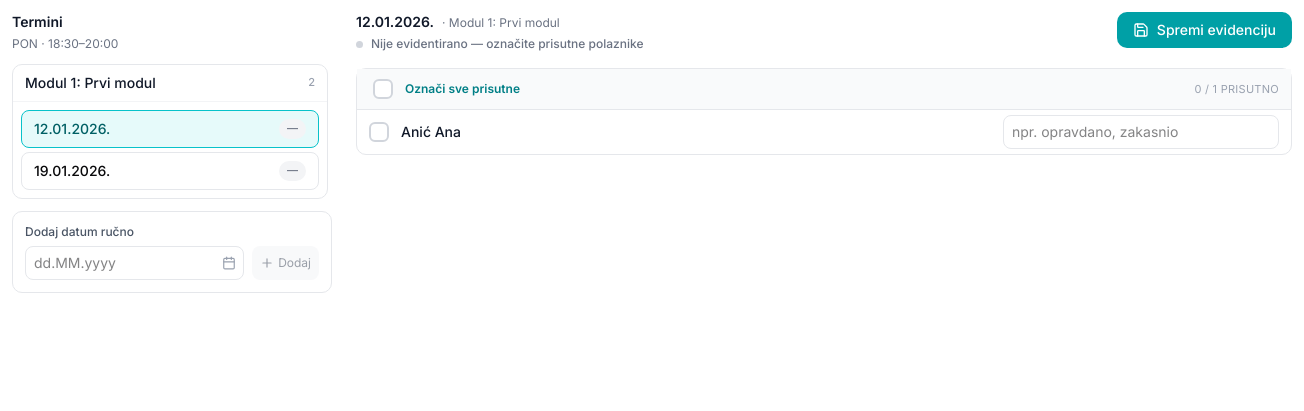
Test: AttendanceMarker — removing a mistyped hand-added date › standard branch: removes a date bucketed into Ostali termini
In the field labelled "Dodaj datum ručno": (135,263) [25, 246, 244, 280], type "26.01.2026"
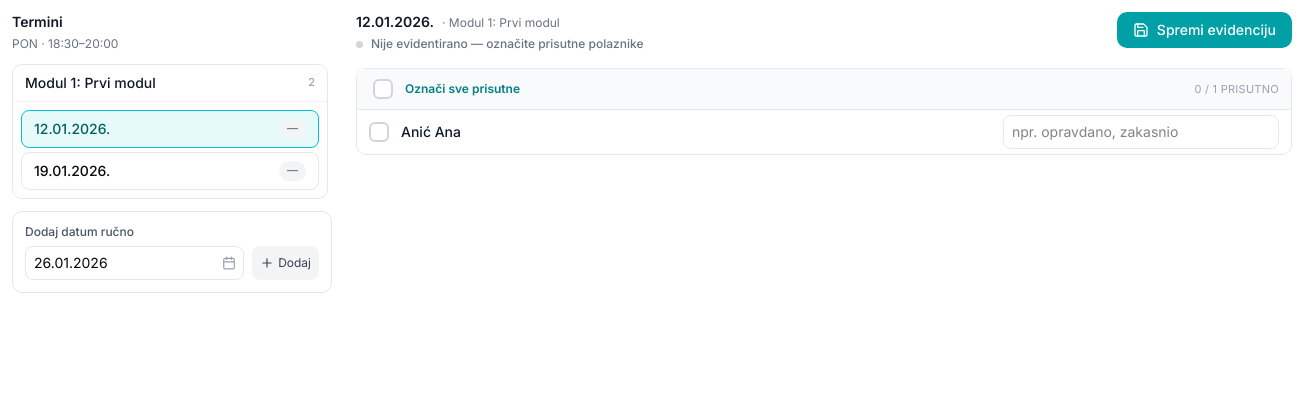
Click the button "Dodaj": (286,263) [252, 246, 319, 280]
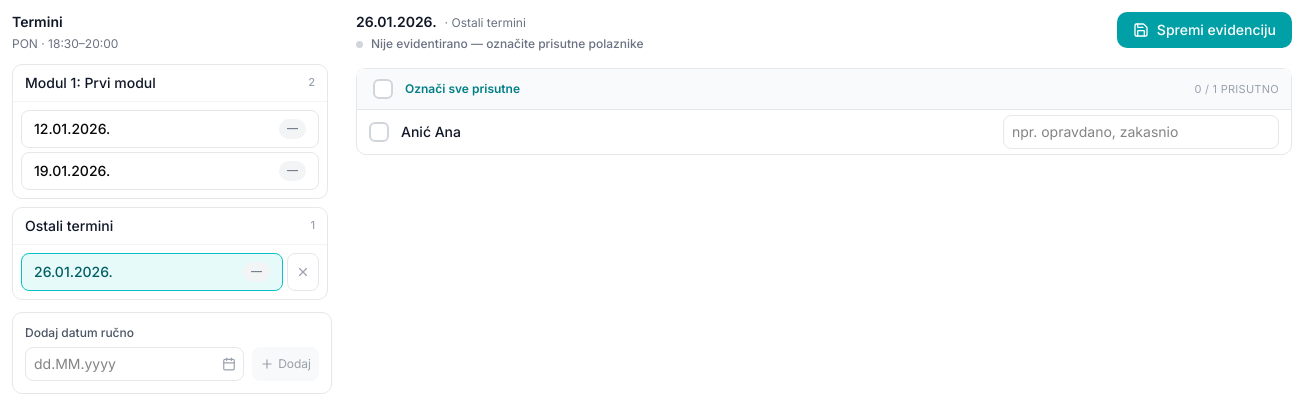
Now the text "26.01.2026." is shown, box [34, 263, 113, 280]
Click the button named "Ukloni ručno dodani datum 26.01.2026.": (303,272) [287, 253, 319, 291]
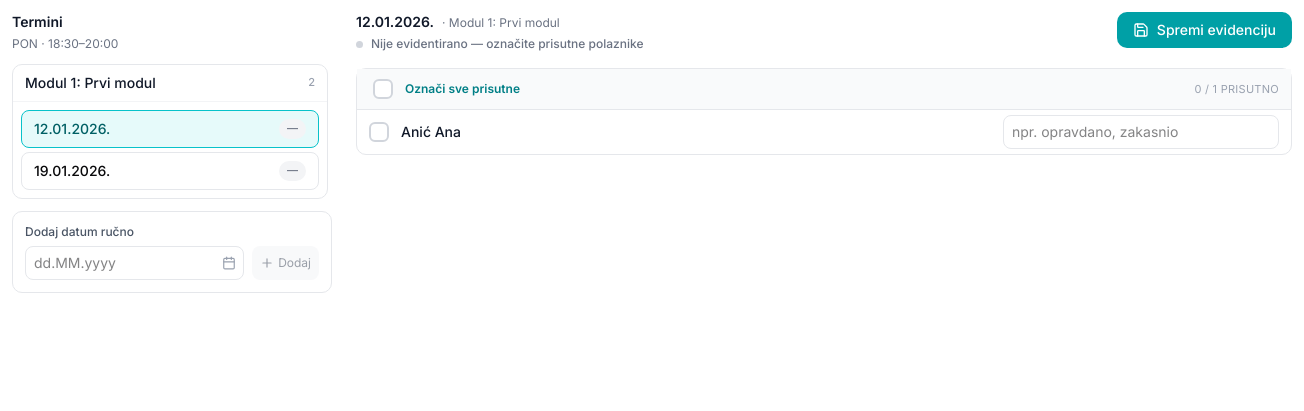
Now the button "26.01.2026." is gone
